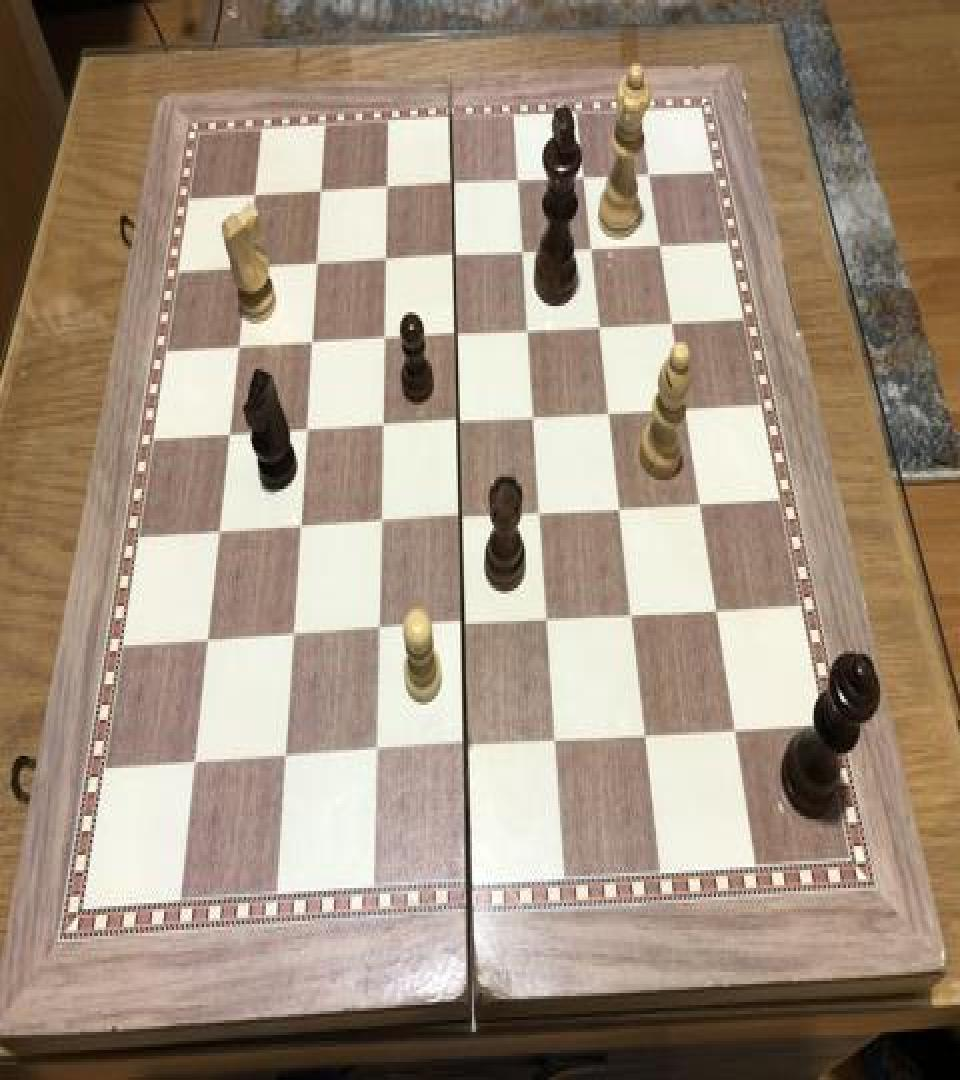xcorner: (206, 514, 230, 551), (722, 712, 746, 749), (633, 718, 657, 755), (637, 153, 661, 189), (572, 158, 596, 194), (506, 160, 530, 196), (441, 164, 465, 200), (375, 168, 399, 204), (309, 171, 333, 207), (243, 174, 267, 210), (648, 225, 672, 261), (579, 228, 603, 264), (511, 232, 535, 268), (442, 236, 466, 272), (373, 240, 397, 276), (304, 243, 328, 279), (235, 248, 259, 284), (660, 303, 684, 339), (588, 308, 612, 344), (516, 310, 540, 346), (444, 315, 468, 351), (372, 320, 396, 356), (299, 324, 323, 360), (226, 327, 250, 363), (673, 390, 697, 426), (597, 394, 621, 430), (522, 398, 546, 434), (446, 402, 470, 438), (370, 406, 394, 442), (293, 411, 317, 447), (217, 416, 241, 452), (687, 486, 711, 522), (608, 490, 632, 526), (528, 495, 552, 531), (448, 500, 472, 536), (368, 504, 392, 540), (287, 508, 311, 544), (704, 592, 728, 628), (619, 597, 643, 633), (535, 603, 559, 639), (450, 608, 474, 644), (365, 614, 389, 650), (280, 618, 304, 654), (194, 624, 218, 660), (543, 724, 567, 760), (453, 730, 477, 766), (363, 735, 387, 771), (272, 741, 296, 777), (181, 747, 205, 783)
